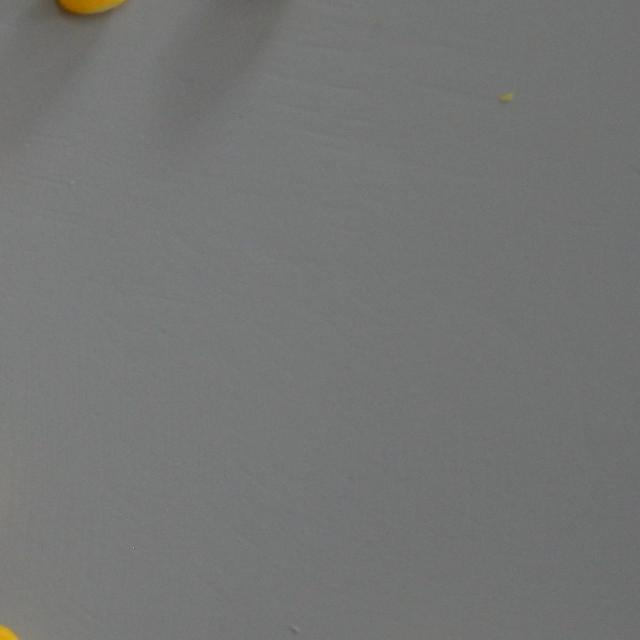no_desgerminado: (46, 0, 144, 20)
